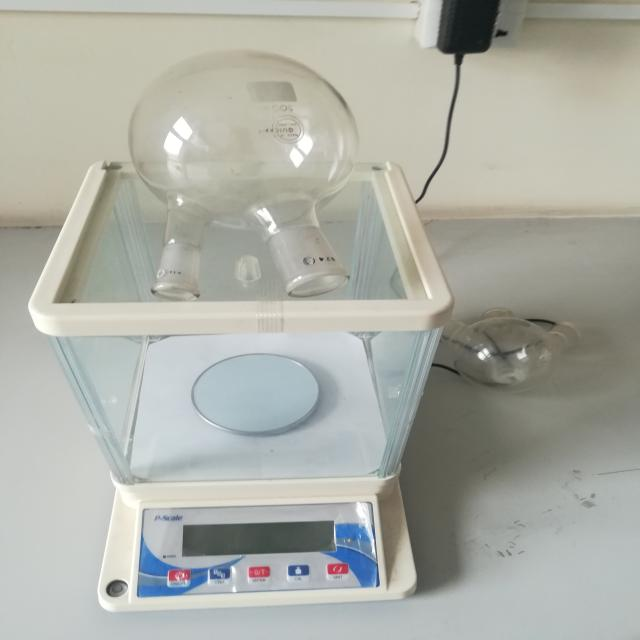Round_Bottom_Flask_Borosilicate_Glass_2_Neck: (87, 18, 400, 341)
